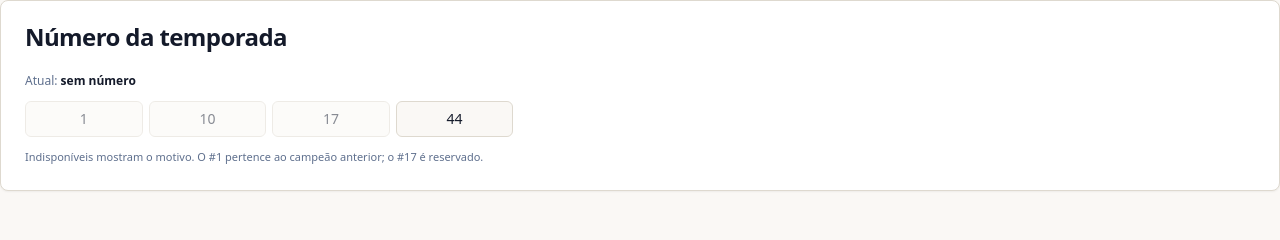
Test: SeasonNumberPicker › mostra o erro de conflito retornado pela API
Expected: the text "Atual: sem número" is shown, [25,72,136,89]
Click the button named "Número 44" at (455, 119), box [396,101,513,137]
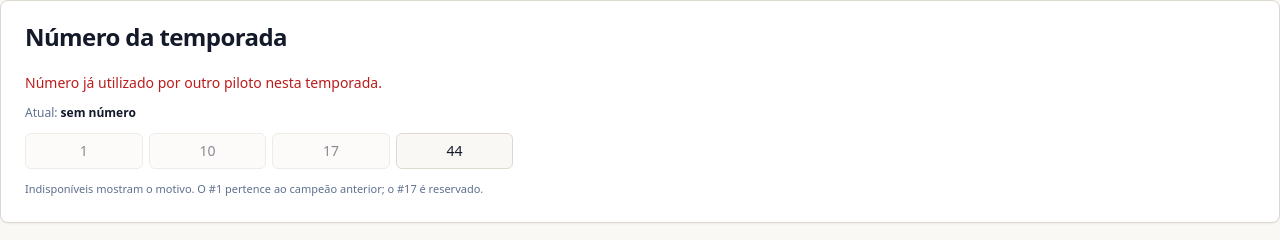
Now the message reads "Número já utilizado por outro piloto nesta temporada.", box [25,73,382,92]
